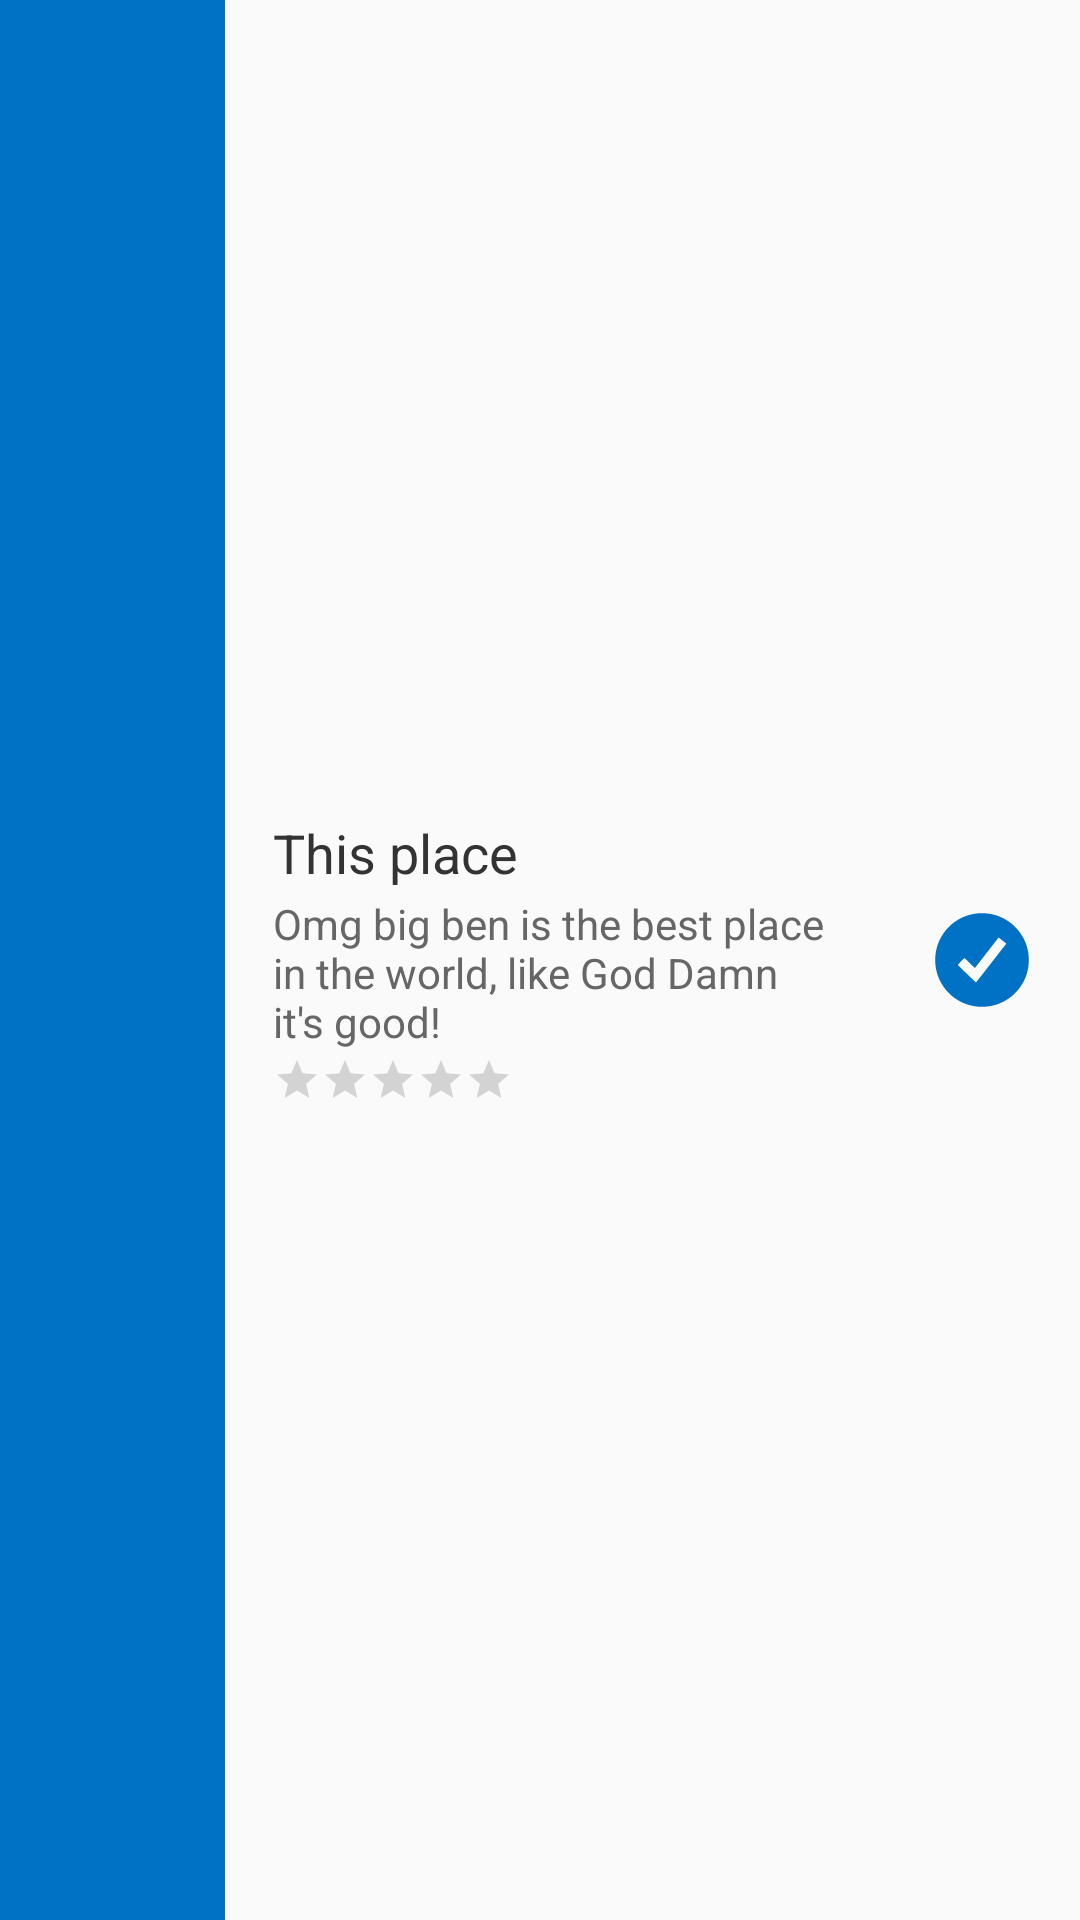

Screen size 1080w x 1920h. Icon name, then its box in pixels as (x1, y1, x2, y2):
tick: (935, 913, 1029, 1007)
